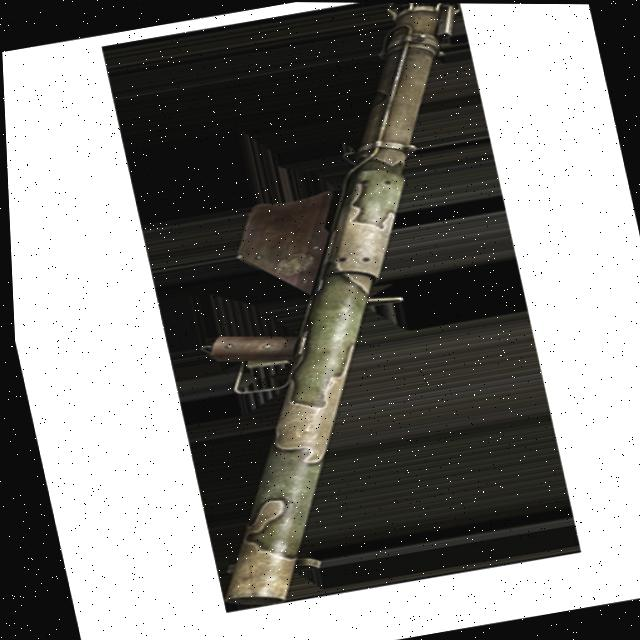rocket: (95, 1, 585, 616)
